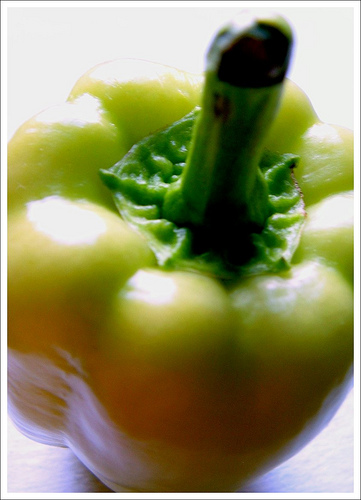capsicum: (3, 5, 357, 491)
